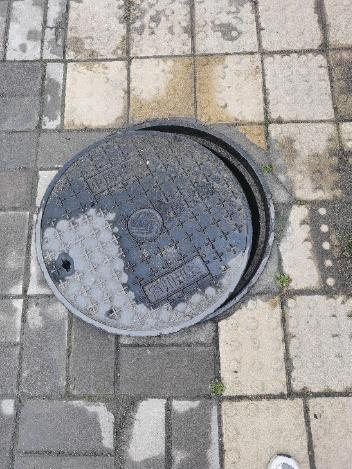wellcover: (38, 117, 283, 334)
